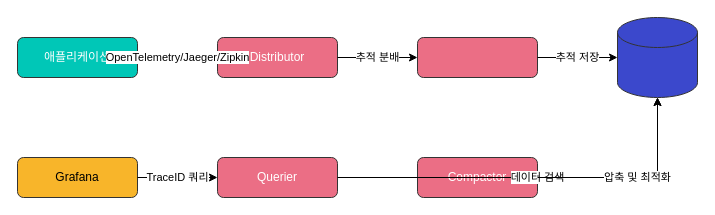
Some shapes in this 715 by 215 pixel diagram are drawn without their labels. The centre of each missing label's shape, as x and y in pixels:
Ingester: (477,57)
Object Storage: (657,57)
